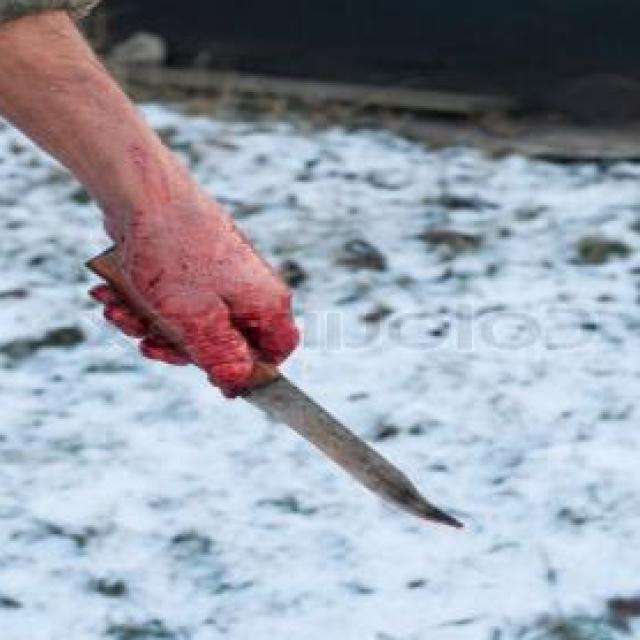knife: (130, 297, 479, 541)
